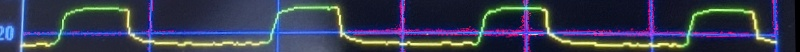normal_pressure: (22, 0, 790, 52)
